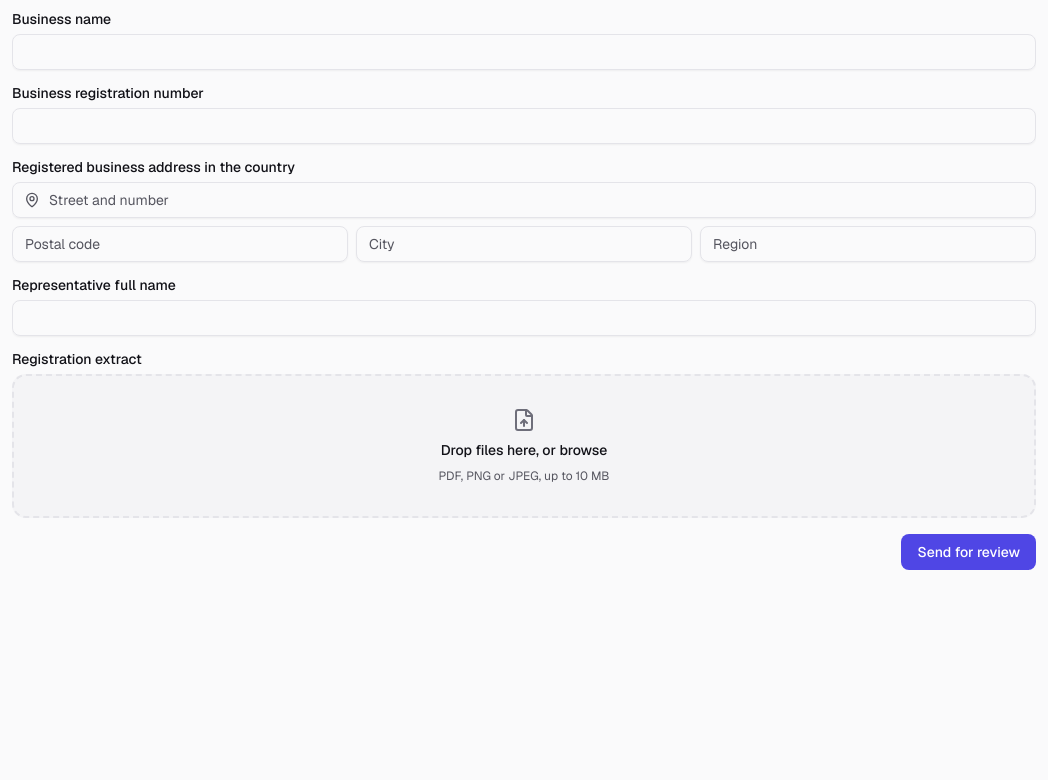
Test: RequirementsForm › does not submit while a required field is empty and says which one
Click the button with test id "requirements-submit": [969, 552] box [902,534,1036,570]
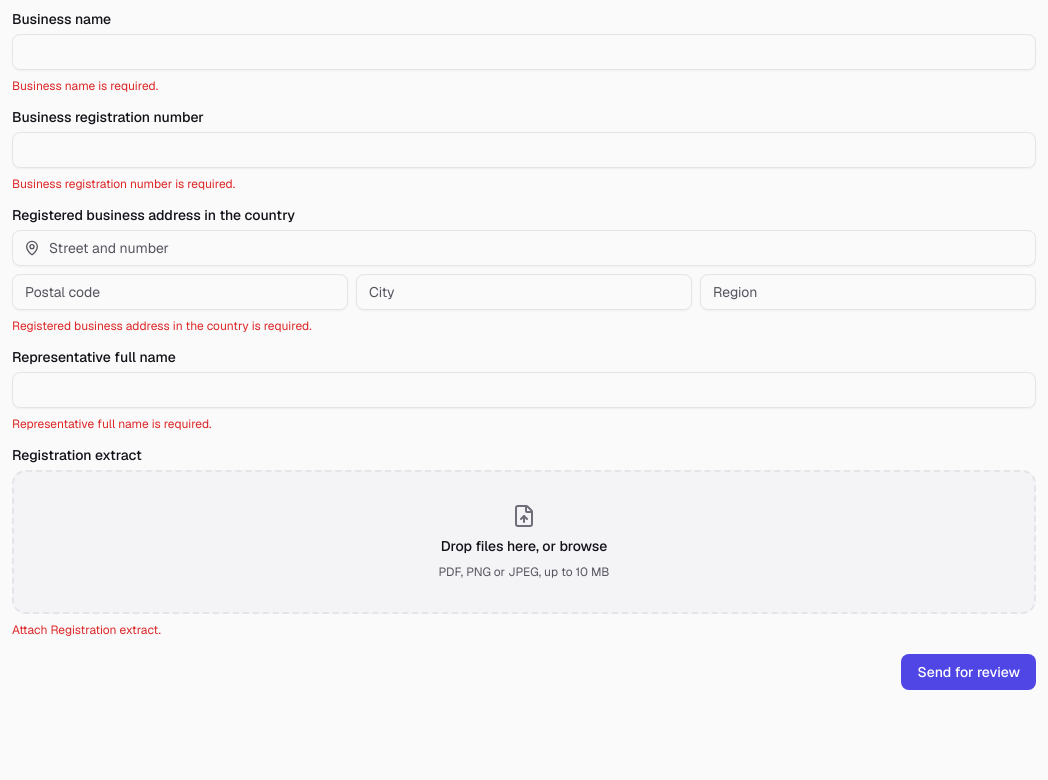
Check: the message with test id "req-error-businessName" reads "Business name is required.", box [12,78,158,94]
Check: the message with test id "req-error-address" shows "is required", box [12,318,312,334]
Check: the text "Attach Registration extract." is shown, box [12,622,161,638]
